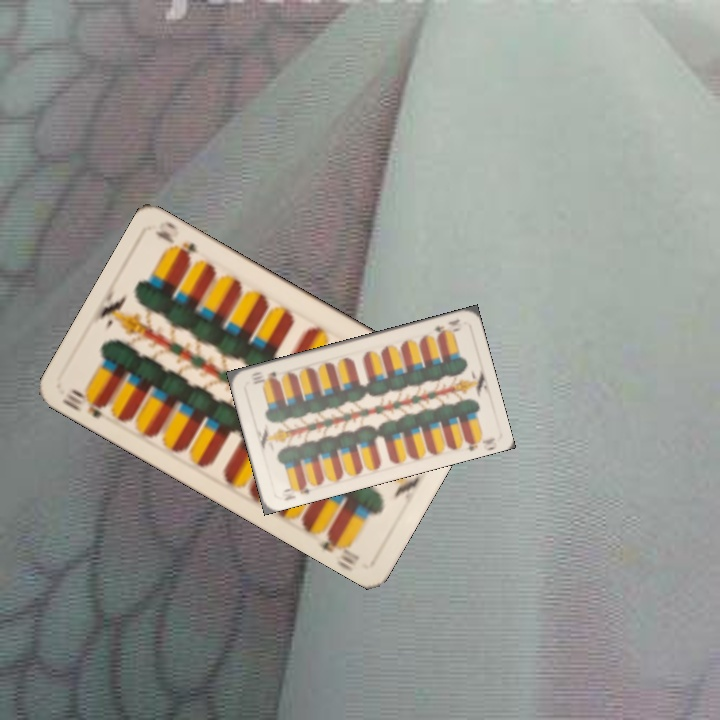E10: (58, 385, 110, 421), (277, 479, 315, 503), (429, 315, 463, 339)
